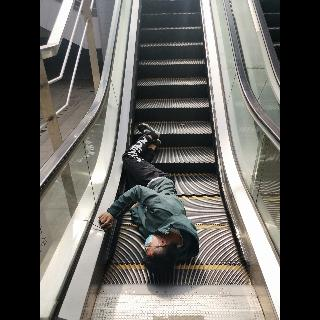anomaly: (98, 122, 200, 272)
